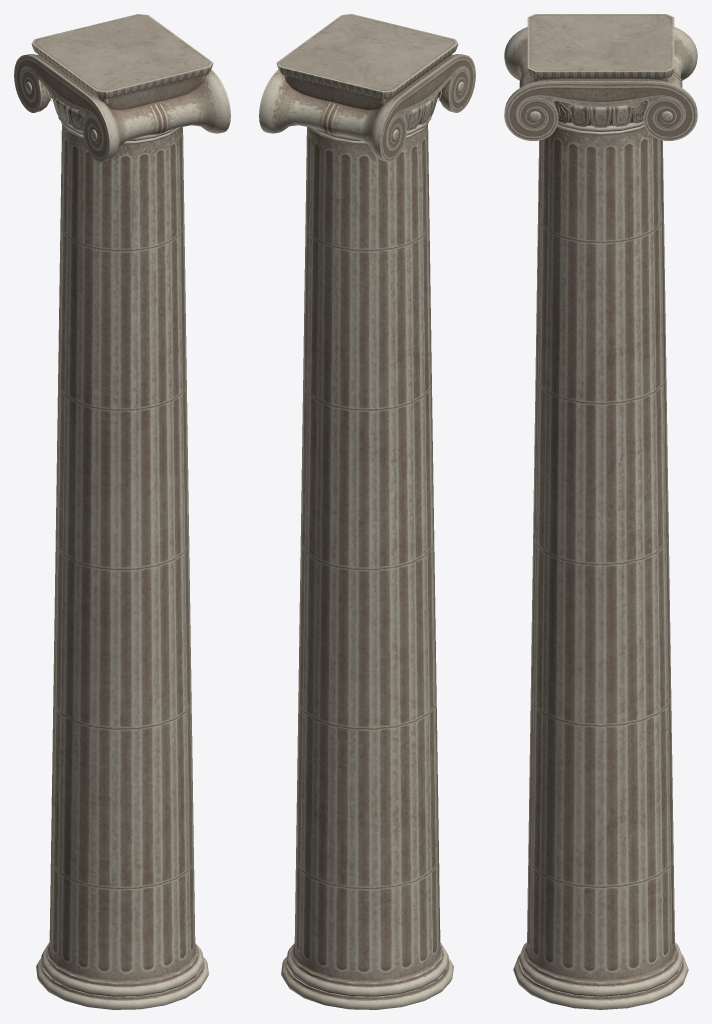
Rendered from animated_column.glb.
The picture shows the model from 3 angles, left to right: view 1: azimuth 30°, elevation 25°; view 2: azimuth 150°, elevation 25°; view 3: azimuth 270°, elevation 25°; orthographic projection.
Parts seen in each view (by area): view 1: sloup1_lp, sloup1_lp_column_0.002, sloup5_lp_column_0.001, sloup4_lp_column_0.001, sloup3_lp_column_0.001; view 2: sloup1_lp, sloup1_lp_column_0.002, sloup5_lp_column_0.001, sloup4_lp_column_0.001, sloup3_lp_column_0.001; view 3: sloup1_lp, sloup1_lp_column_0.002, sloup4_lp_column_0.001, sloup5_lp_column_0.001, sloup3_lp_column_0.001.
Part boxes in pixels (x1,y1,x2,y2): sloup1_lp: (36, 422, 208, 1009); sloup1_lp_column_0.002: (57, 122, 187, 460); sloup5_lp_column_0.001: (31, 14, 213, 110); sloup4_lp_column_0.001: (14, 54, 230, 162); sloup3_lp_column_0.001: (51, 93, 84, 131); sloup1_lp: (281, 432, 453, 1009); sloup1_lp_column_0.002: (302, 122, 432, 471); sloup5_lp_column_0.001: (276, 14, 458, 110); sloup4_lp_column_0.001: (259, 54, 475, 162); sloup3_lp_column_0.001: (405, 93, 438, 131); sloup1_lp: (513, 418, 688, 1009); sloup1_lp_column_0.002: (535, 125, 667, 444); sloup4_lp_column_0.001: (504, 27, 697, 140); sloup5_lp_column_0.001: (527, 14, 674, 81); sloup3_lp_column_0.001: (554, 101, 647, 127).
Size of the model in its own units: 5.73 by 33.52 by 6.32.
1 material, 1 textured.
